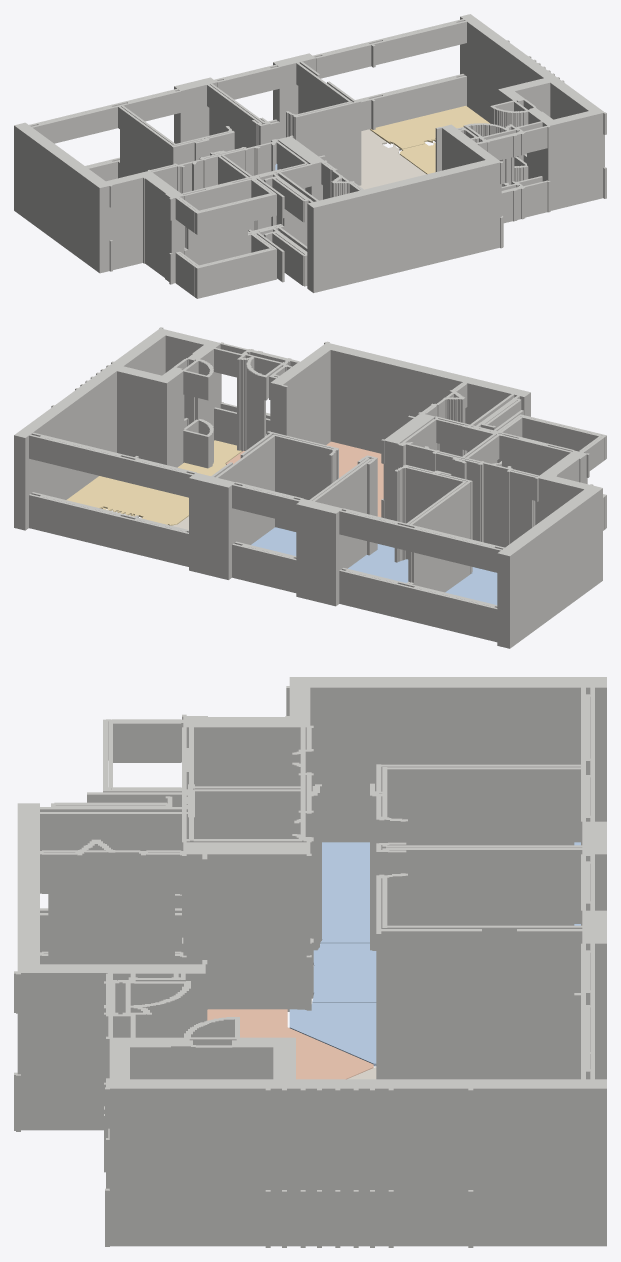
3 views of the same model, one above another, from view 1: azimuth 30°, elevation 25°; view 2: azimuth 150°, elevation 25°; view 3: azimuth 270°, elevation 25° (orthographic). The views are drawn at different scales.
Visible parts, largest first — view 1: walls, room:living:5, room:other:4, room:living:6; view 2: walls, room:living:6, room:bedroom:1, room:bedroom:13, room:kitchen:11, room:bedroom:0; view 3: walls, room:bedroom:13, room:kitchen:11, room:bedroom:0, room:bedroom:1.
Boxes of the visible parts, x1=… form: walls: x1=14, y1=14, x2=606, y2=298; room:living:5: x1=370, y1=106, x2=490, y2=149; room:other:4: x1=359, y1=129, x2=426, y2=189; room:living:6: x1=399, y1=142, x2=435, y2=174; walls: x1=14, y1=327, x2=606, y2=648; room:living:6: x1=66, y1=440, x2=241, y2=525; room:bedroom:1: x1=348, y1=544, x2=408, y2=582; room:bedroom:13: x1=445, y1=567, x2=497, y2=604; room:kitchen:11: x1=226, y1=441, x2=383, y2=517; room:bedroom:0: x1=251, y1=527, x2=296, y2=555; walls: x1=14, y1=677, x2=606, y2=1247; room:bedroom:13: x1=320, y1=842, x2=580, y2=943; room:kitchen:11: x1=207, y1=1009, x2=373, y2=1079; room:bedroom:0: x1=289, y1=1003, x2=376, y2=1066; room:bedroom:1: x1=312, y1=924, x2=580, y2=1002.
Bounding box in the file's own units: 15.75 × 2.8 × 9.55.
